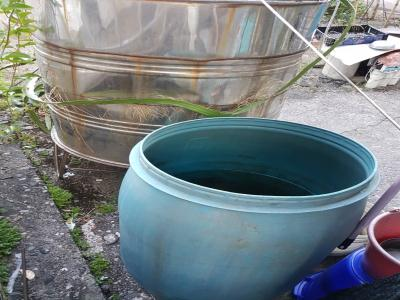box: (314, 23, 390, 47)
bucket: (116, 116, 380, 299)
water_tower: (35, 1, 328, 170)
